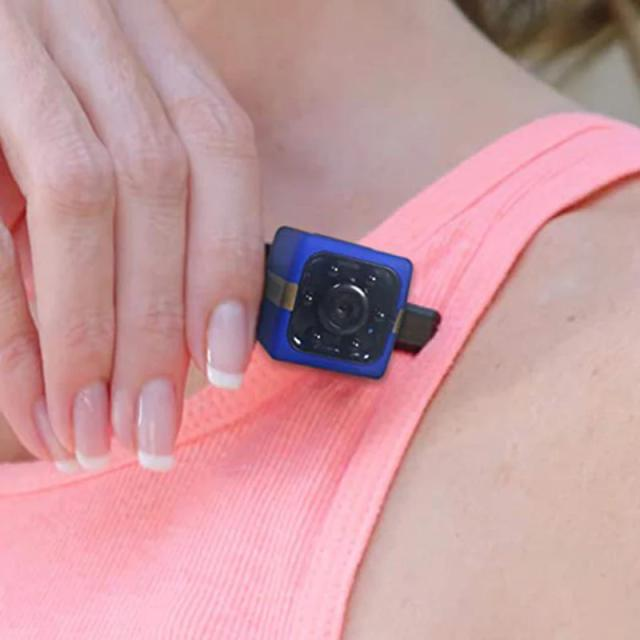hidden camera: (326, 286, 368, 330)
